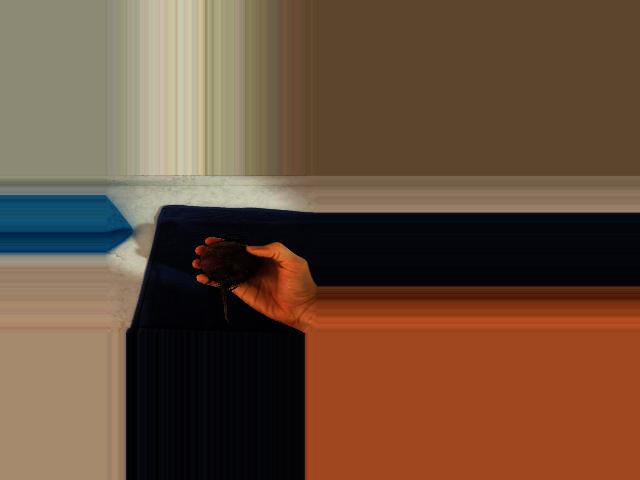beet: (199, 234, 257, 325)
